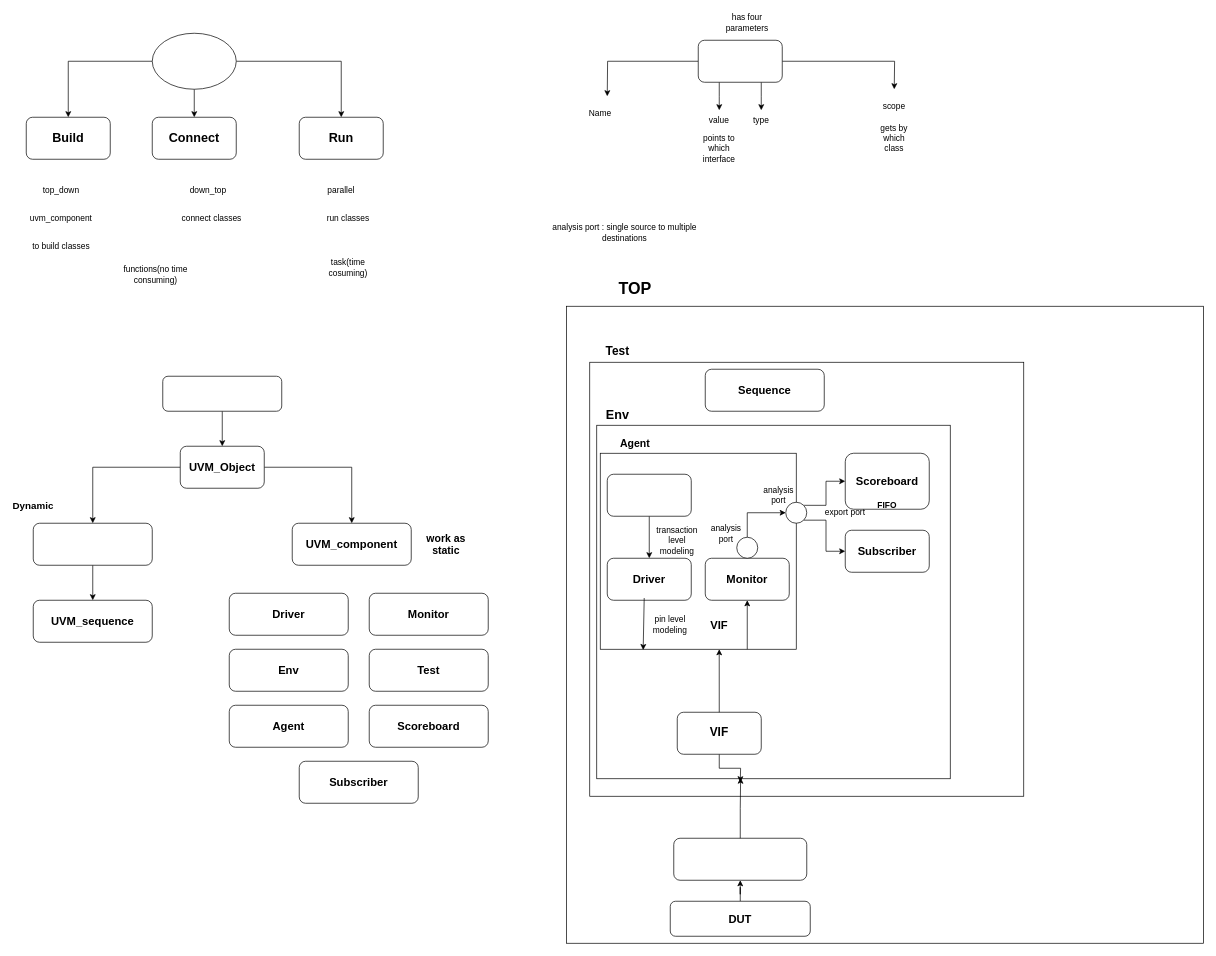
This 1216x956 diagram has some shape labels left out. Here are the shapes that lost their labels. From the top down, the centre of each, then its label:
At (194,61): "Phases".
At (740,61): "Virtual Interface".
At (222,393): "UVM_Void".
At (649,495): "Sequencer".
At (92,544): "UVM_sequence_item".
At (740,859): "Interface".
